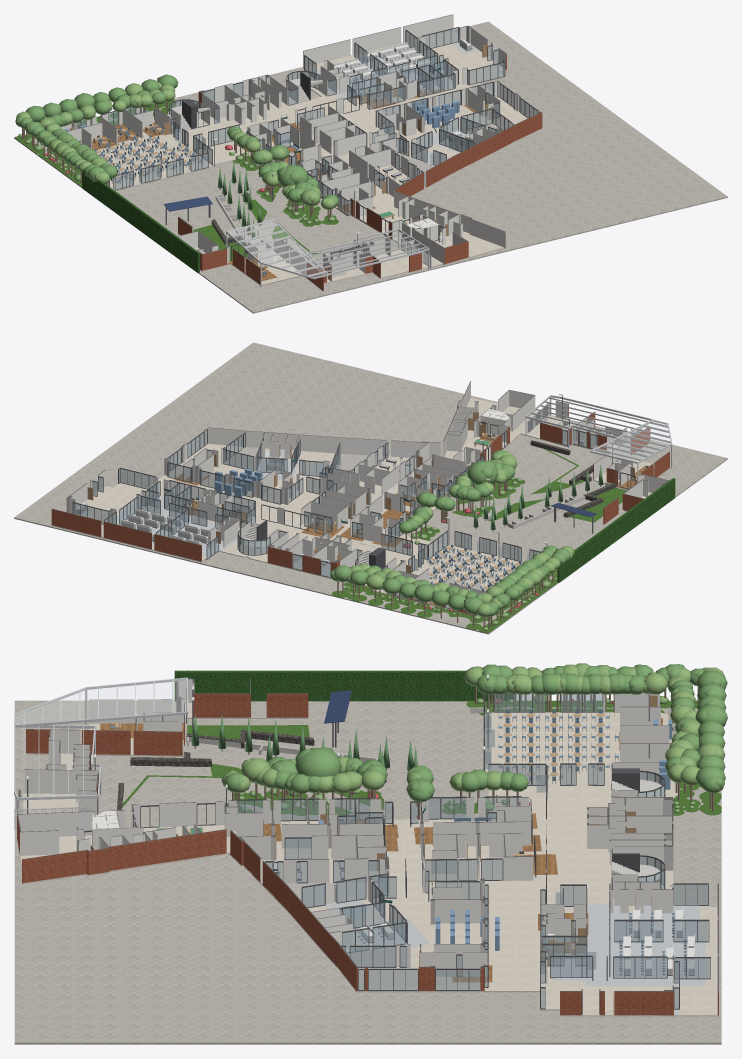
The model's file is campus.glb.
3 views of the same model, one above another, from view 1: azimuth 30°, elevation 25°; view 2: azimuth 150°, elevation 25°; view 3: azimuth 270°, elevation 25° (orthographic). The views are drawn at different scales.
Visible parts, largest first — view 1: Site, Walls, Floor_Slab, Glass, Deco_Tree_Crowns_0_2, Floor_Zones, Deco_Grass, Canopy_Access_Roof, Glass_Frames_Top, Deco_Green_Wall, Deco_Tree_Crowns_1_1, Canopy_Terrace_Frame (+20 smaller); view 2: Site, Walls, Floor_Slab, Glass, Deco_Tree_Crowns_0_2, Floor_Zones, Deco_Grass, Deco_Green_Wall, Glass_Frames_Top, Deco_Tree_Crowns_1_1, Canopy_Terrace_Frame, Canopy_Access_Roof (+24 smaller); view 3: Site, Walls, Floor_Slab, Glass, Floor_Zones, Deco_Tree_Crowns_0_2, Deco_Green_Wall, Deco_Tree_Crowns_1_1, Deco_Grass, Canopy_Access_Roof, Glass_Frames_Top, Ramps_Stairs (+25 smaller).
Boxes of the visible parts, x1,y1,x2,y2 form: Site: (14,21,727,313); Walls: (61,14,542,290); Floor_Slab: (96,31,541,291); Glass: (76,28,536,258); Deco_Tree_Crowns_0_2: (15,79,165,181); Floor_Zones: (92,42,487,280); Deco_Grass: (15,99,338,260); Canopy_Access_Roof: (227,219,327,277); Glass_Frames_Top: (83,27,540,252); Deco_Green_Wall: (82,169,199,272); Deco_Tree_Crowns_1_1: (237,134,321,206); Canopy_Terrace_Frame: (302,229,429,275); Site: (14,342,727,634); Walls: (51,381,669,615); Floor_Slab: (51,398,669,614); Glass: (73,430,597,608); Deco_Tree_Crowns_0_2: (350,545,572,616); Floor_Zones: (75,433,653,606); Deco_Grass: (332,449,626,632); Deco_Green_Wall: (557,478,675,582); Glass_Frames_Top: (72,407,635,568); Deco_Tree_Crowns_1_1: (413,455,517,523); Canopy_Terrace_Frame: (525,395,653,447); Canopy_Access_Roof: (591,420,671,461); Site: (14,700,721,1044); Walls: (17,678,718,1015); Floor_Slab: (17,703,718,1016); Glass: (237,692,710,1008); Floor_Zones: (100,718,705,1014); Deco_Tree_Crowns_0_2: (476,663,727,771); Deco_Green_Wall: (174,670,516,701); Deco_Tree_Crowns_1_1: (241,746,487,802); Deco_Grass: (122,700,721,815); Canopy_Access_Roof: (15,678,187,724); Glass_Frames_Top: (84,693,710,993); Ramps_Stairs: (146,823,673,1015).
Size of the model in its own units: 87.83 by 6.59 by 76.75.
43 materials, 14 textured.
